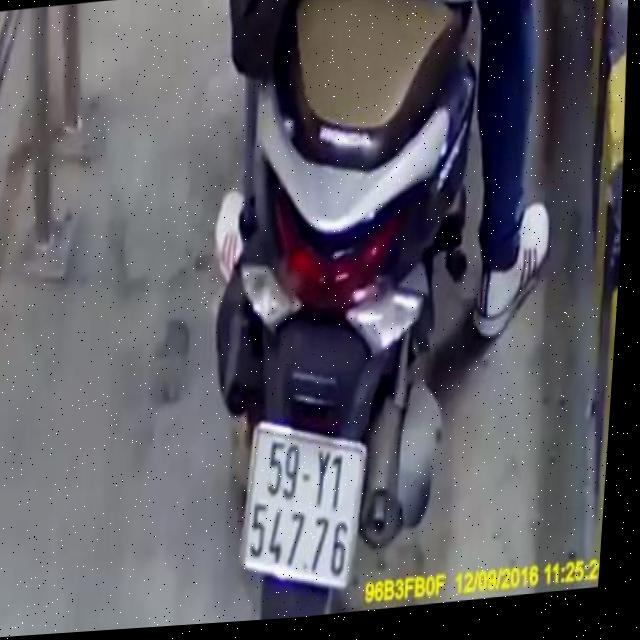motorcycle: (147, 0, 508, 627)
plate: (225, 406, 373, 601)
